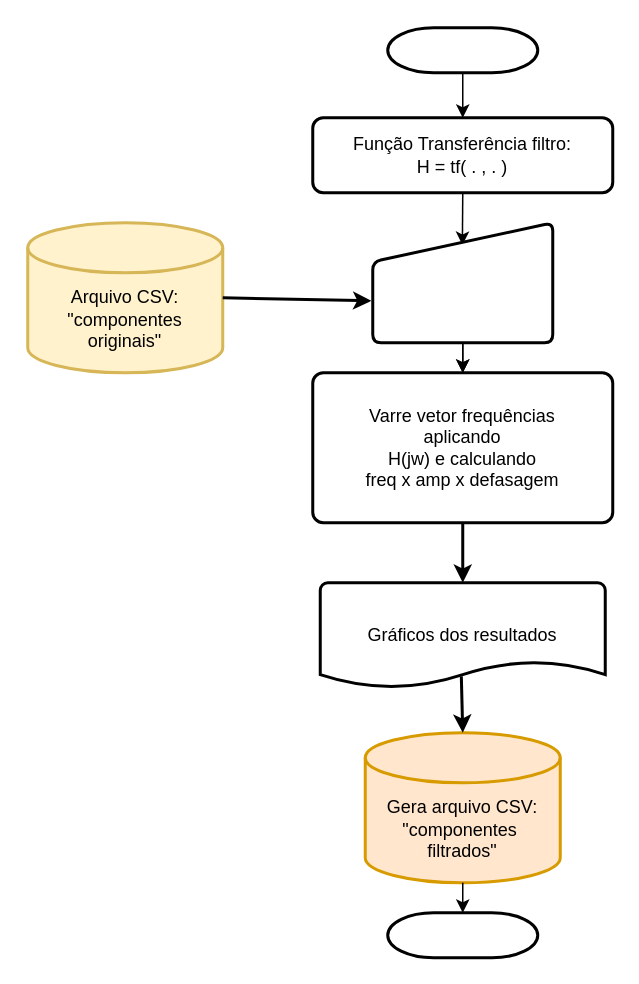
This 639x984 diagram has some shape labels left out. The shapes that lost their labels are listed below. From the top down, each one's box as (x1, y1, x2, y2) in pixels, then its label:
(386, 26, 538, 74): Início
(370, 220, 554, 344): Arquivo componentes da onda ?
(386, 910, 538, 958): Fim
